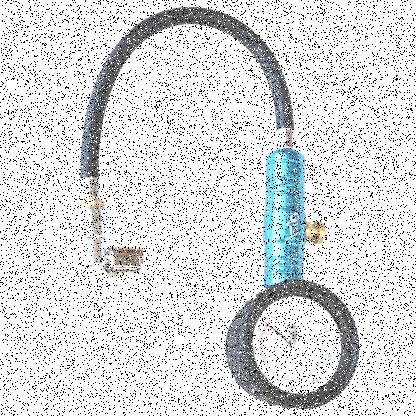needle: (263, 320, 292, 346)
